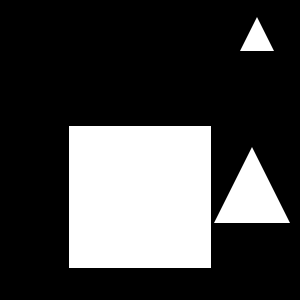circle: (69, 126, 211, 268)
triangle: (214, 147, 290, 223), (240, 17, 274, 51)
